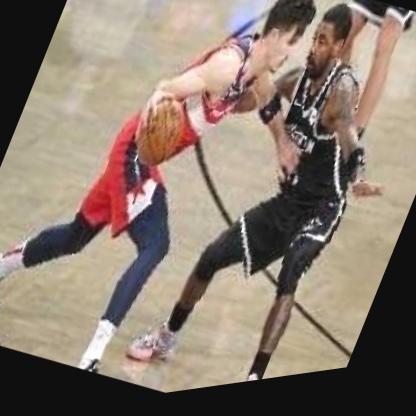basketball: (123, 88, 200, 187)
